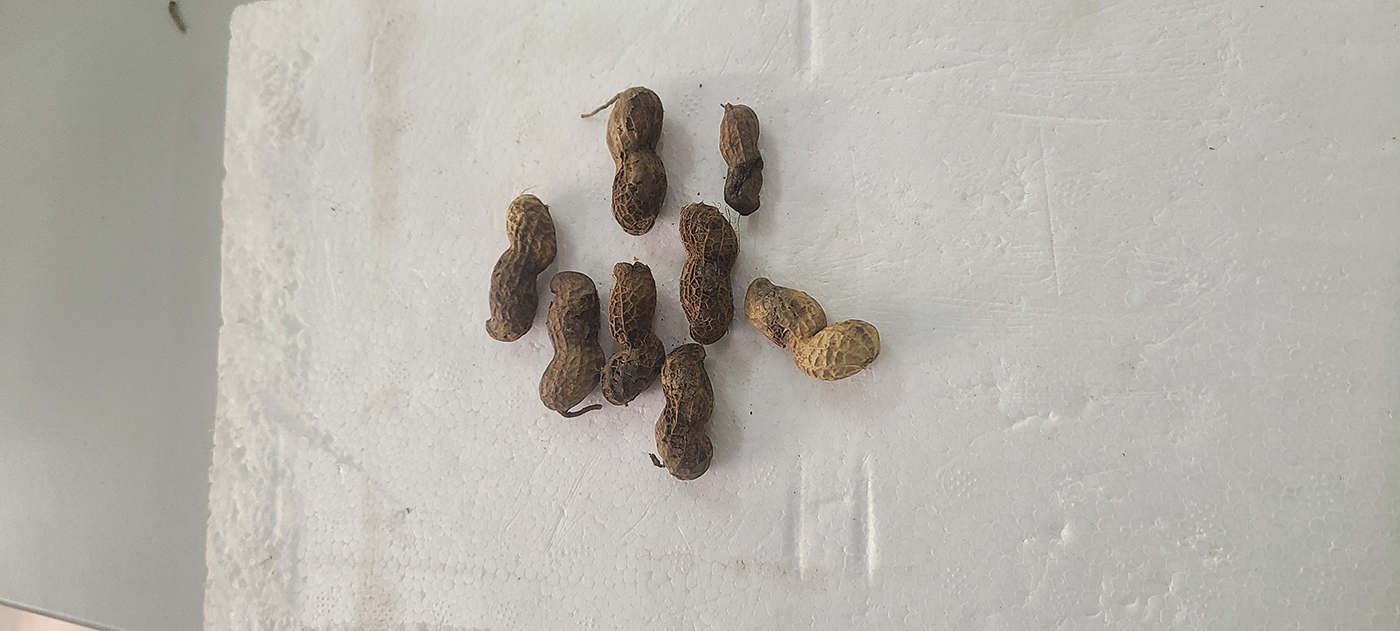l: (743, 277, 882, 379), (486, 193, 557, 342), (538, 271, 605, 411), (600, 261, 665, 405), (606, 87, 668, 235), (678, 203, 738, 343), (654, 344, 715, 480), (720, 102, 764, 217)
